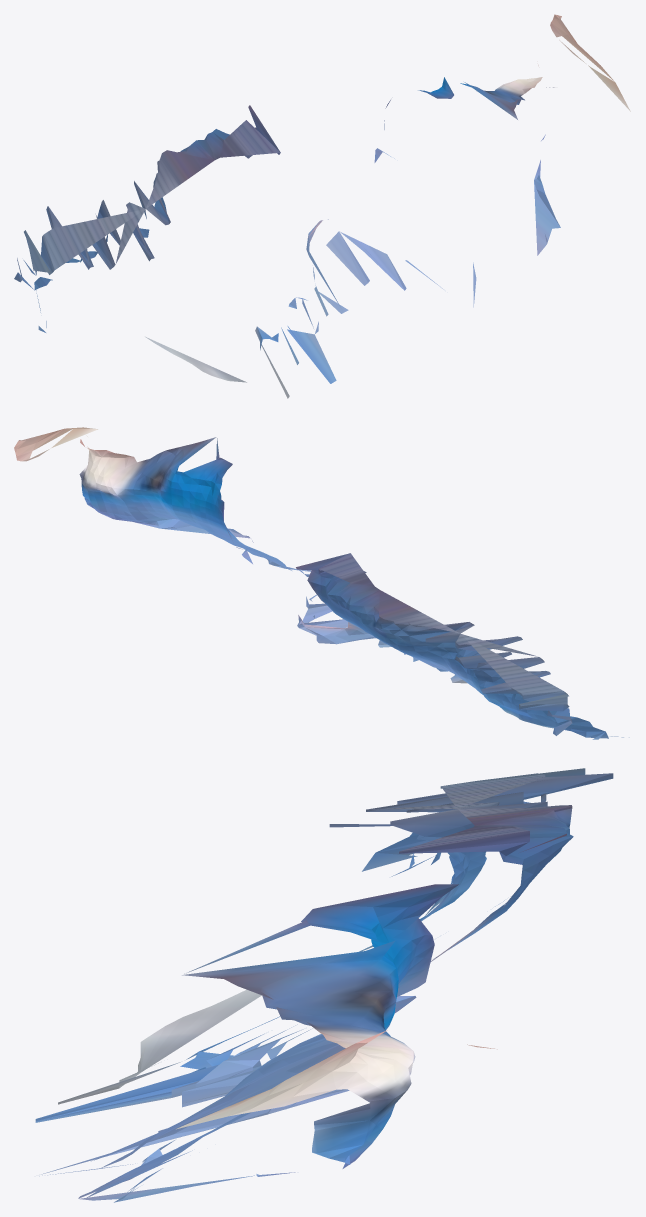
The model's file is observed-surface.glb.
3 renders of one model, top to bottom at view 1: azimuth 30°, elevation 25°; view 2: azimuth 150°, elevation 25°; view 3: azimuth 270°, elevation 25°, orthographic. The views are drawn at different scales.
Visible parts, largest first — view 1: geometry_0; view 2: geometry_0; view 3: geometry_0.
Part boxes in pixels (x1,y1,x2,y2): geometry_0: (14, 14, 630, 398); geometry_0: (14, 427, 629, 739); geometry_0: (35, 768, 613, 1202).
Bounding box in the file's own units: 0.6764 × 0.2557 × 0.3121.
1 material, 1 textured.
